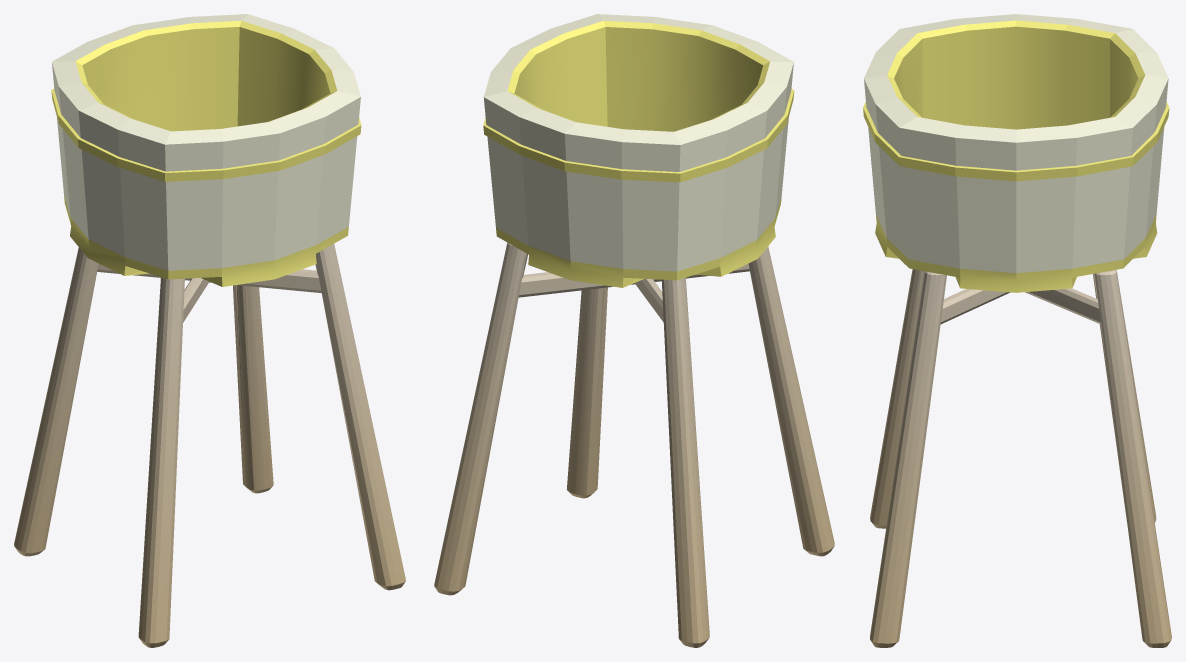
File: PlantPot_16.fbx
3 renders of one model, left to right at view 1: azimuth 30°, elevation 25°; view 2: azimuth 150°, elevation 25°; view 3: azimuth 270°, elevation 25°, orthographic. The views are drawn at different scales.
Visible parts, largest first — view 1: PlantPot_16; view 2: PlantPot_16; view 3: PlantPot_16.
Boxes of the visible parts, left/top/right/bottom form: PlantPot_16: left=14, top=14, right=405, bottom=647; PlantPot_16: left=434, top=14, right=834, bottom=647; PlantPot_16: left=863, top=14, right=1171, bottom=647.
Size of the model in its own units: 37.01 by 66.64 by 36.74.
